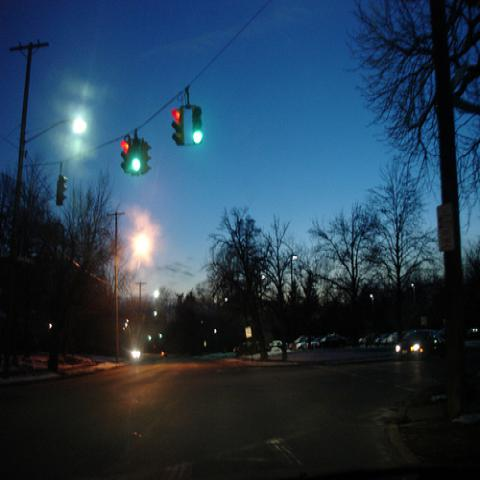car: (392, 330, 444, 360), (312, 334, 347, 349), (121, 346, 142, 363), (267, 339, 289, 351), (288, 336, 307, 349), (466, 328, 480, 342), (296, 337, 308, 352), (382, 332, 398, 343), (359, 336, 367, 346), (374, 338, 382, 345)
